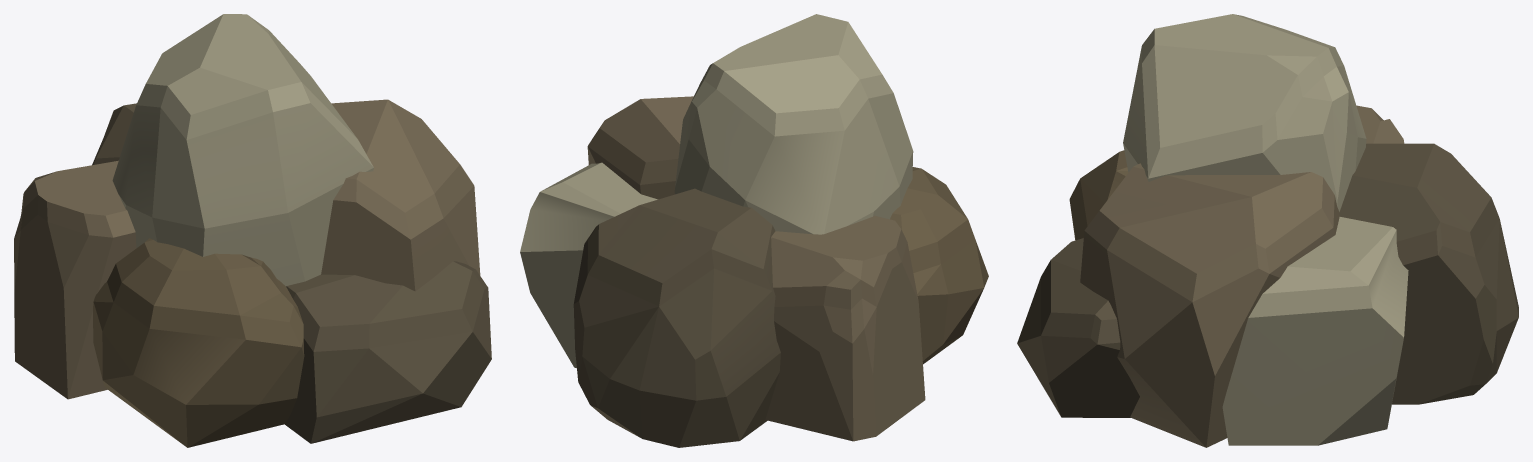
Rendered from Rock_08.fbx.
3 views of the same model, side by side, from view 1: azimuth 30°, elevation 25°; view 2: azimuth 150°, elevation 25°; view 3: azimuth 270°, elevation 25° (orthographic). The views are drawn at different scales.
Parts seen in each view (by area): view 1: Rock_08; view 2: Rock_08; view 3: Rock_08.
Boxes of the visible parts, bbox=[...] form: Rock_08: bbox=[14, 14, 491, 447]; Rock_08: bbox=[520, 14, 988, 447]; Rock_08: bbox=[1017, 14, 1518, 447].
Size of the model in its own units: 277 by 226 by 318.
